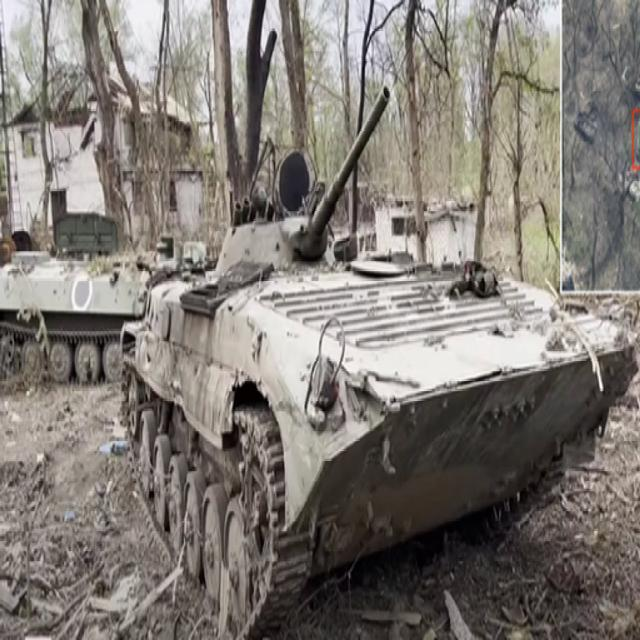APC-IFV: (121, 84, 634, 636), (0, 218, 211, 376)
